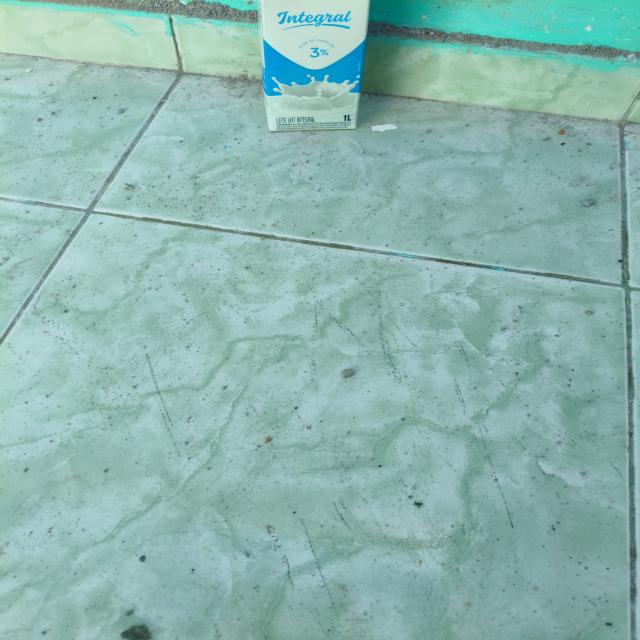Caixa de Leite: (256, 2, 381, 134)
